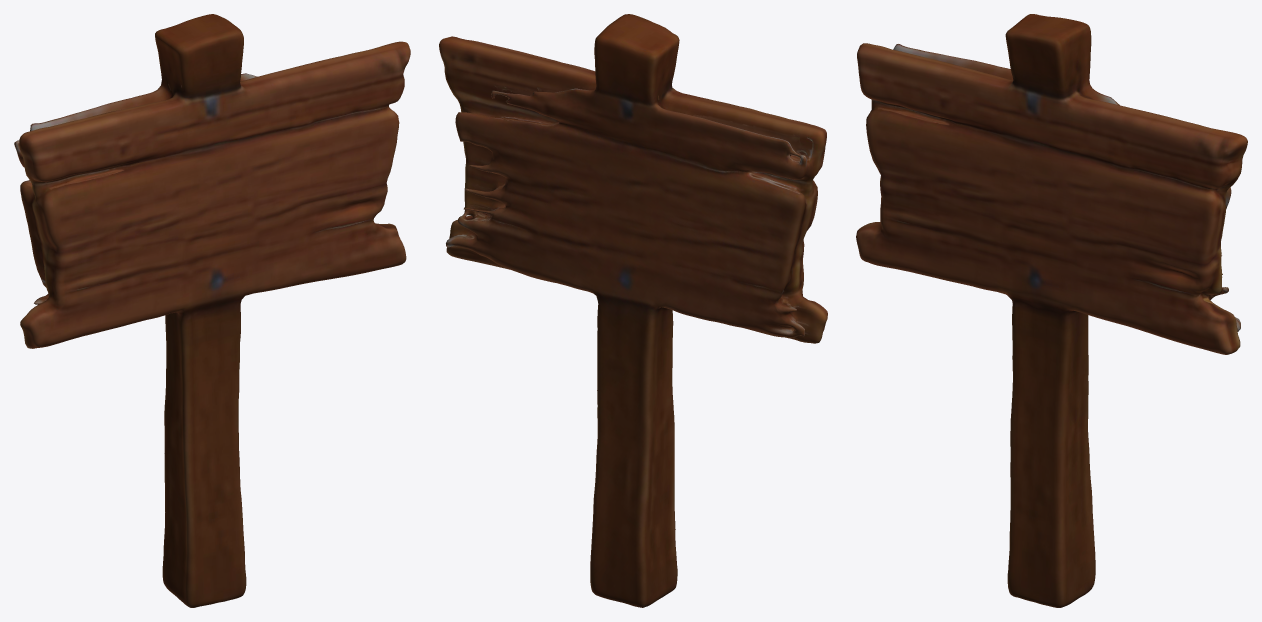
File: b2c51151fafd_low_poly_wooden_emp.fbx
3 renders of one model, left to right at view 1: azimuth 30°, elevation 25°; view 2: azimuth 150°, elevation 25°; view 3: azimuth 330°, elevation 25°, orthographic.
Parts seen in each view (by area): view 1: mesh; view 2: mesh; view 3: mesh.
Part boxes in pixels (<box>): mesh: <box>14,14,410,607</box>; mesh: <box>439,14,827,607</box>; mesh: <box>856,14,1247,607</box>.
Bounding box in the file's own units: 71.3 × 99.94 × 10.73.
